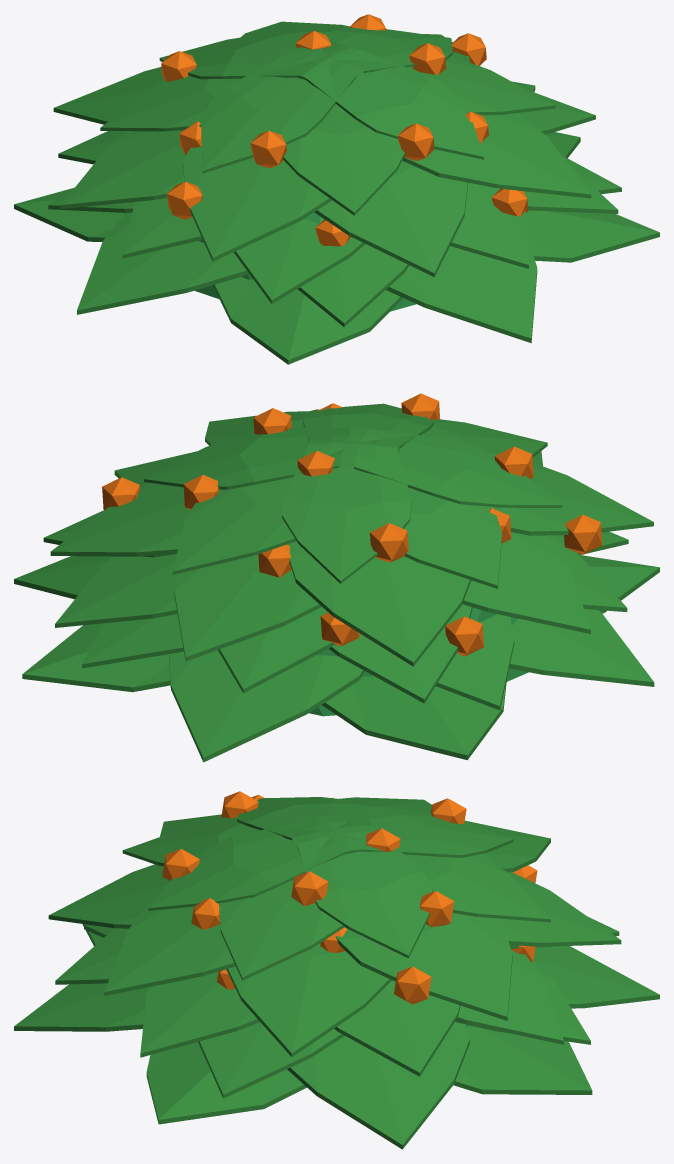
Rendered from BushLOrangeFruits.fbx.
The picture shows the model from 3 angles, top to bottom: view 1: azimuth 30°, elevation 25°; view 2: azimuth 150°, elevation 25°; view 3: azimuth 270°, elevation 25°; orthographic projection. The views are drawn at different scales.
Visible parts, largest first — view 1: BushLOrangeFruits; view 2: BushLOrangeFruits; view 3: BushLOrangeFruits.
Boxes of the visible parts, box(x1,y1,x2,y2) form: BushLOrangeFruits: box(14, 14, 659, 364); BushLOrangeFruits: box(14, 393, 659, 762); BushLOrangeFruits: box(14, 791, 659, 1149).
Size of the model in its own units: 1000 by 320 by 1007.
